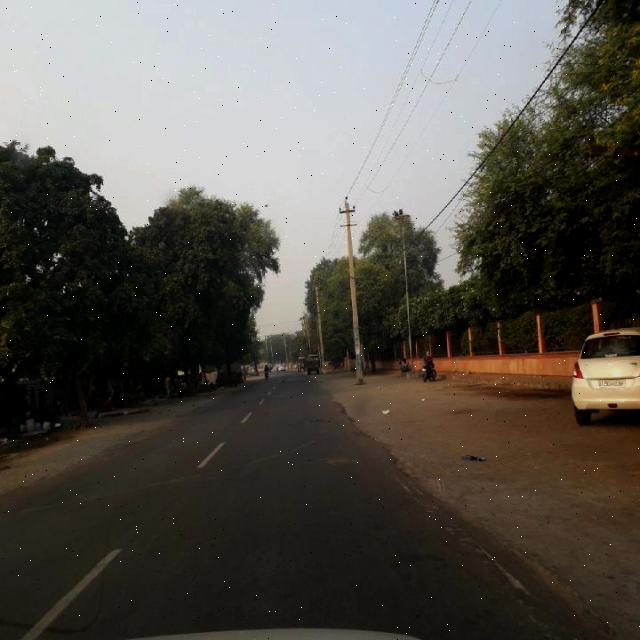D44: (452, 526, 562, 638), (358, 425, 452, 523)
